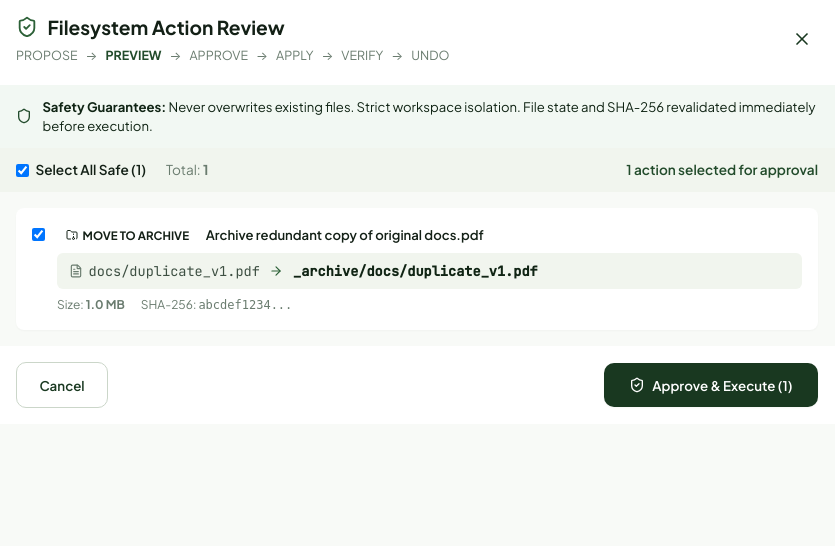
Test: Filesystem Action System Components › ActionReviewModal › approves and executes selected actions via backend endpoint
Click the button "Approve & Execute (1)" at (711, 385), box [604,363,818,408]
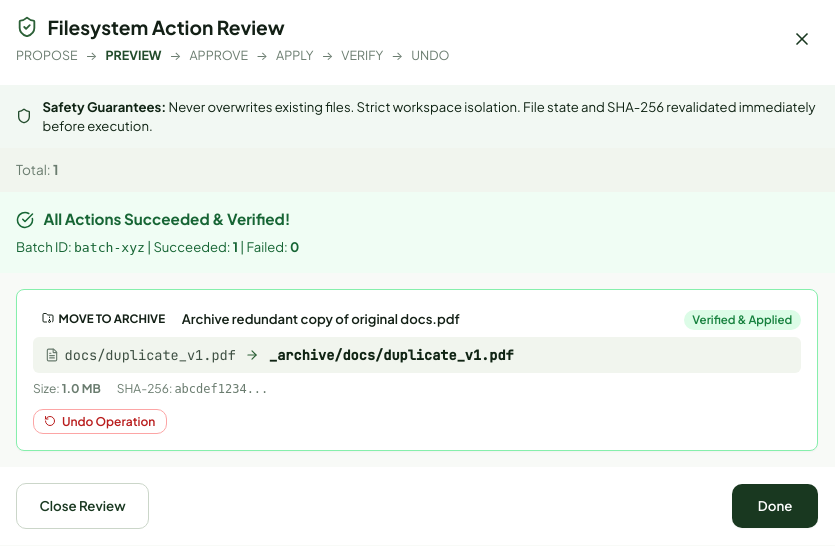
Check: the text "All Actions Succeeded & Verified!" is shown, box [44,208,290,231]
Check: the button "Undo Operation" is shown, box [33,409,167,434]
